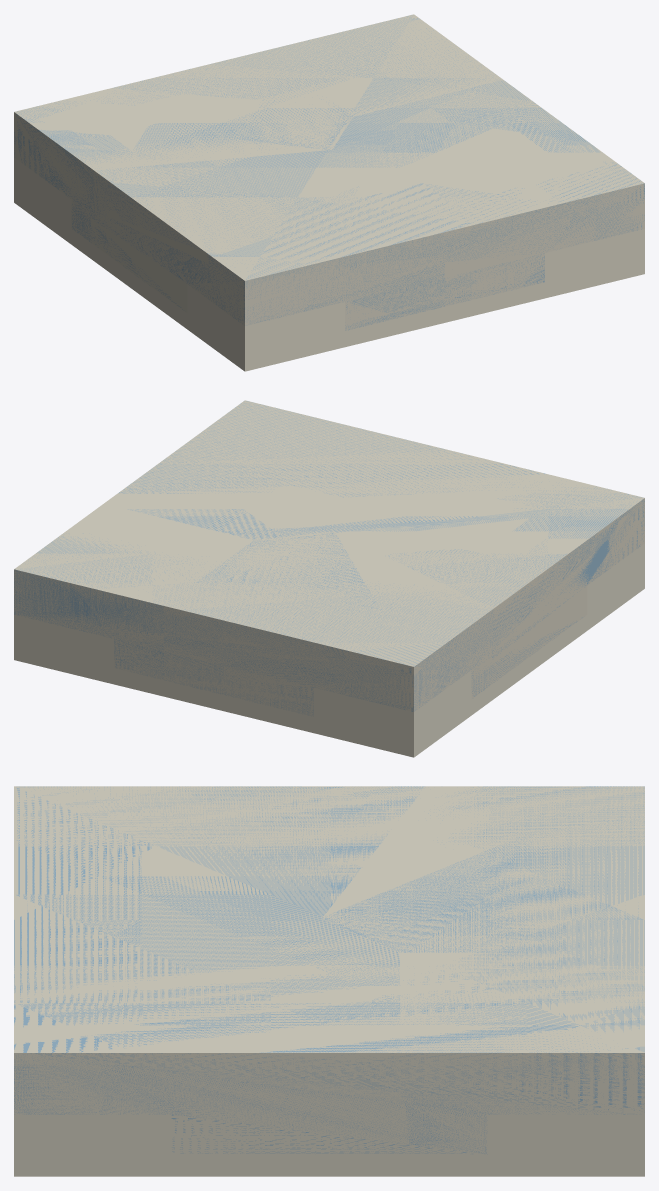
The model's file is towerSquareMidColor.fbx.
3 renders of one model, top to bottom at view 1: azimuth 30°, elevation 25°; view 2: azimuth 150°, elevation 25°; view 3: azimuth 270°, elevation 25°, orthographic. The views are drawn at different scales.
Parts seen in each view (by area): view 1: towerSquareMidColor, towerSquareMidColor_cell.007, towerSquareMidColor_cell.004, towerSquareMidColor_cell, towerSquareMidColor_cell.003, towerSquareMidColor_cell.005, towerSquareMidColor_cell.006; view 2: towerSquareMidColor, towerSquareMidColor_cell.004, towerSquareMidColor_cell.006, towerSquareMidColor_cell.003, towerSquareMidColor_cell, towerSquareMidColor_cell.005; view 3: towerSquareMidColor, towerSquareMidColor_cell.004, towerSquareMidColor_cell.006, towerSquareMidColor_cell.001, towerSquareMidColor_cell.007, towerSquareMidColor_cell.002.
Boxes of the visible parts, x1,y1,x2,y2 form: towerSquareMidColor: (14, 14, 644, 371); towerSquareMidColor_cell.007: (445, 183, 644, 322); towerSquareMidColor_cell.004: (14, 95, 353, 249); towerSquareMidColor_cell: (207, 236, 444, 348); towerSquareMidColor_cell.003: (89, 170, 217, 349); towerSquareMidColor_cell.005: (215, 300, 447, 371); towerSquareMidColor_cell.006: (332, 57, 503, 116); towerSquareMidColor: (14, 400, 644, 757); towerSquareMidColor_cell.004: (164, 531, 493, 744); towerSquareMidColor_cell.006: (14, 504, 252, 673); towerSquareMidColor_cell.003: (489, 539, 617, 702); towerSquareMidColor_cell: (615, 498, 644, 585); towerSquareMidColor_cell.005: (615, 568, 643, 609); towerSquareMidColor: (14, 786, 644, 1176); towerSquareMidColor_cell.004: (321, 786, 562, 952); towerSquareMidColor_cell.006: (400, 953, 644, 1145); towerSquareMidColor_cell.001: (80, 1053, 408, 1176); towerSquareMidColor_cell.007: (14, 1053, 117, 1176); towerSquareMidColor_cell.002: (408, 1146, 644, 1175).
Bounding box in the file's own units: 930 × 202 × 930.
